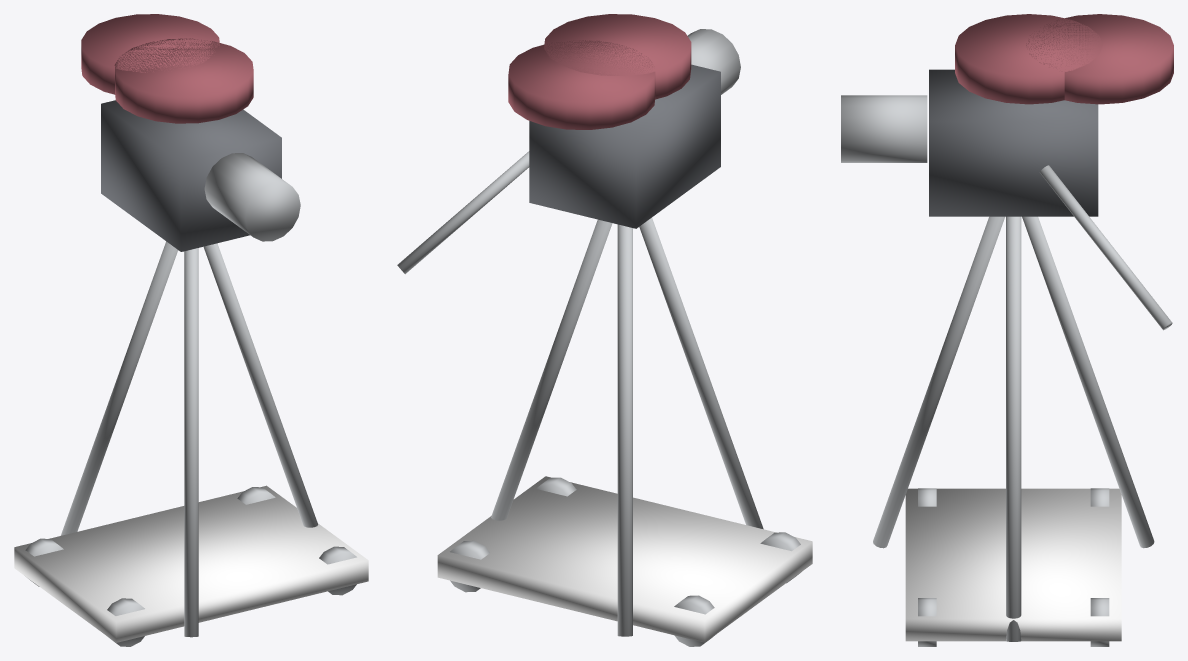
Rendered from Prop_StudioCamera.glb.
3 renders of one model, left to right at view 1: azimuth 30°, elevation 25°; view 2: azimuth 150°, elevation 25°; view 3: azimuth 270°, elevation 25°, orthographic. The views are drawn at different scales.
Visible parts, largest first — view 1: Prop_StudioCamera_LOD0; view 2: Prop_StudioCamera_LOD0; view 3: Prop_StudioCamera_LOD0.
Part boxes in pixels (bbox=[...]): Prop_StudioCamera_LOD0: bbox=[14, 14, 368, 646]; Prop_StudioCamera_LOD0: bbox=[397, 14, 812, 646]; Prop_StudioCamera_LOD0: bbox=[841, 14, 1173, 646].
Size of the model in its own units: 1.07 by 1.95 by 1.08.
